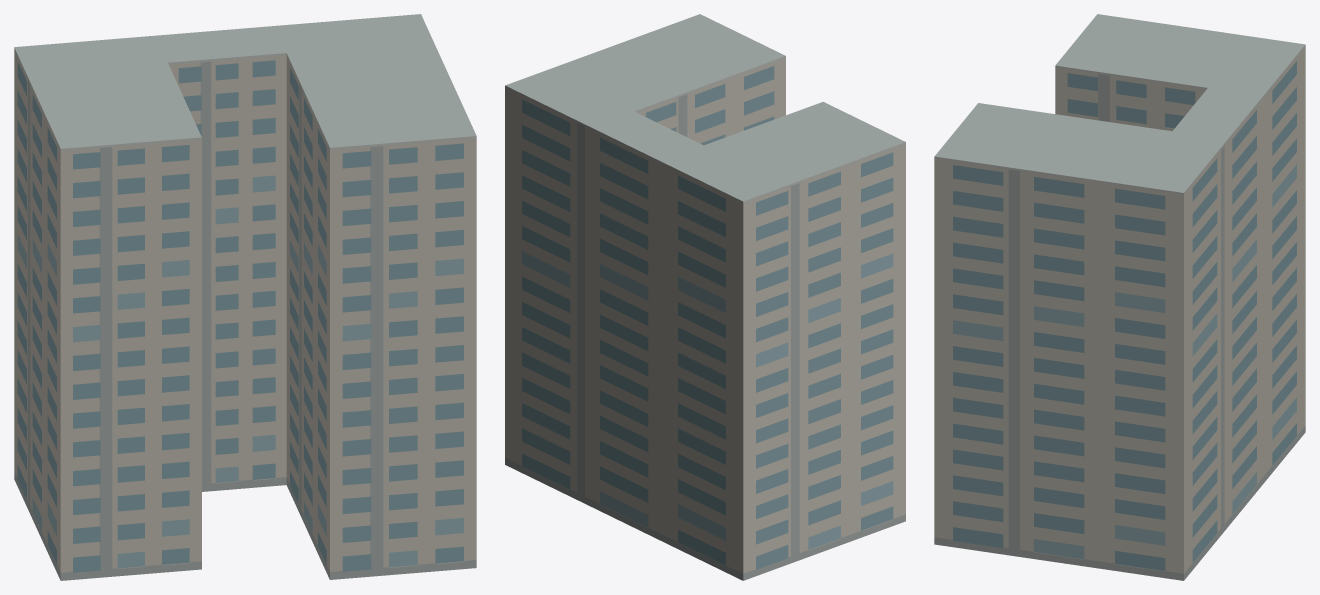
Rendered from residential-bdd10a3f-49a1-4797-b624-94092b4d1939.glb.
3 renders of one model, left to right at view 1: azimuth 30°, elevation 25°; view 2: azimuth 150°, elevation 25°; view 3: azimuth 270°, elevation 25°, orthographic. The views are drawn at different scales.
Parts seen in each view (by area): view 1: residential-bdd10a3f-49a1-4797-b624-94092b4d1939.tmp; view 2: residential-bdd10a3f-49a1-4797-b624-94092b4d1939.tmp; view 3: residential-bdd10a3f-49a1-4797-b624-94092b4d1939.tmp.
Boxes of the visible parts, <box> form: residential-bdd10a3f-49a1-4797-b624-94092b4d1939.tmp: <box>14,14,476,580</box>; residential-bdd10a3f-49a1-4797-b624-94092b4d1939.tmp: <box>505,14,905,580</box>; residential-bdd10a3f-49a1-4797-b624-94092b4d1939.tmp: <box>934,14,1305,580</box>.
Bounding box in the file's own units: 42.55 × 43 × 37.29.
